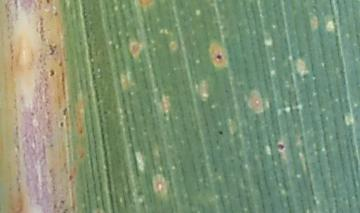tarspot: (47, 41, 55, 55), (275, 141, 285, 151), (215, 52, 224, 60), (49, 68, 56, 78), (58, 119, 65, 128), (61, 107, 68, 116), (217, 130, 225, 136), (60, 199, 66, 207), (53, 10, 59, 17), (67, 174, 73, 180), (46, 1, 51, 5)
